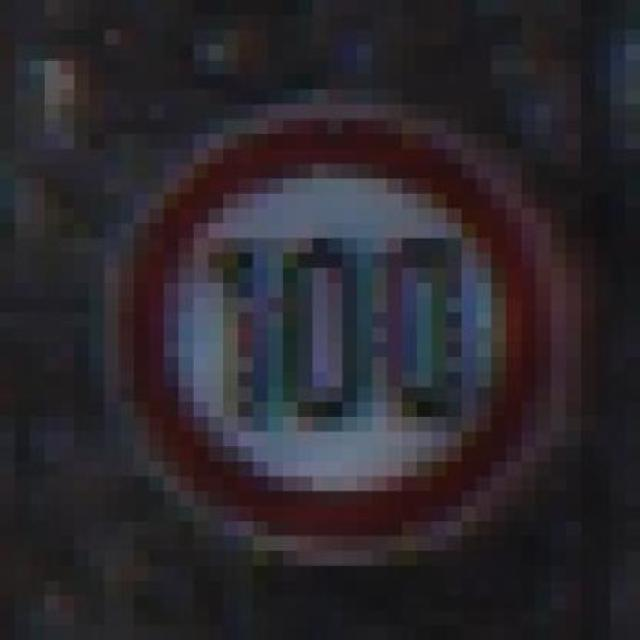forb_speed_over_100: (121, 118, 553, 560)
